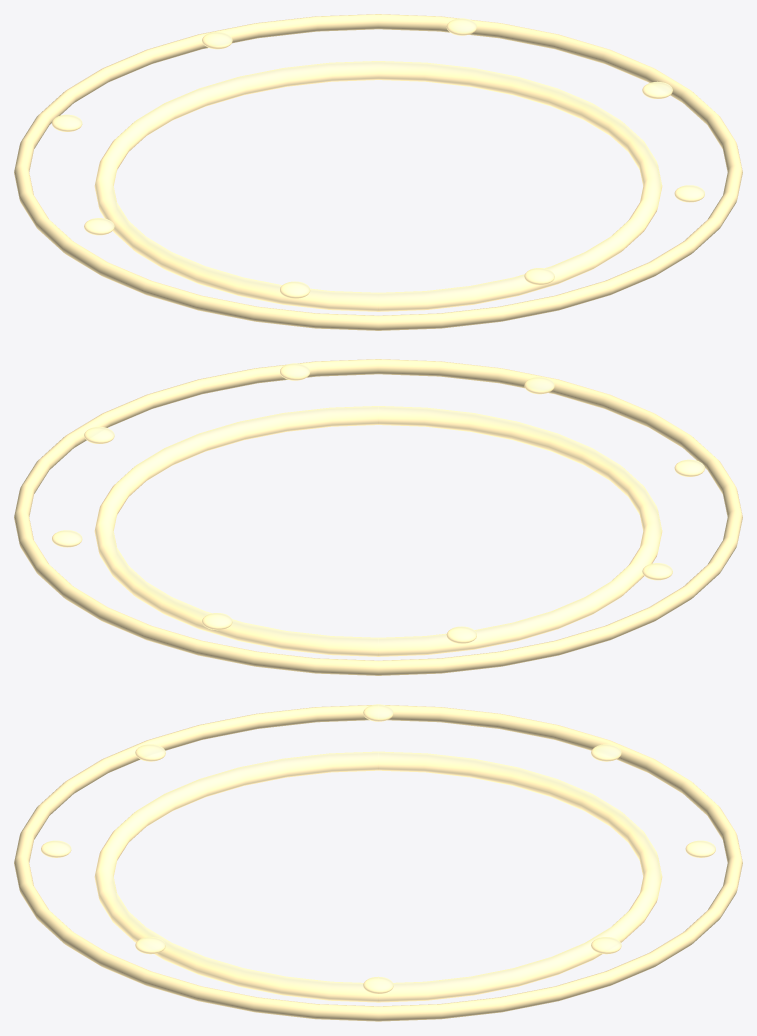
Rendered from ring_double.glb.
3 views of the same model, one above another, from view 1: azimuth 30°, elevation 25°; view 2: azimuth 150°, elevation 25°; view 3: azimuth 270°, elevation 25° (orthographic).
Parts seen in each view (by area): view 1: OuterHalo, InnerHalo; view 2: OuterHalo, InnerHalo; view 3: OuterHalo, InnerHalo.
Boxes of the visible parts, bbox=[...] form: OuterHalo: bbox=[14, 14, 742, 330]; InnerHalo: bbox=[94, 61, 662, 311]; OuterHalo: bbox=[14, 359, 742, 675]; InnerHalo: bbox=[94, 406, 662, 656]; OuterHalo: bbox=[14, 705, 742, 1021]; InnerHalo: bbox=[94, 751, 662, 1002].
Size of the model in its own units: 0.19 by 0.0122 by 0.19.
